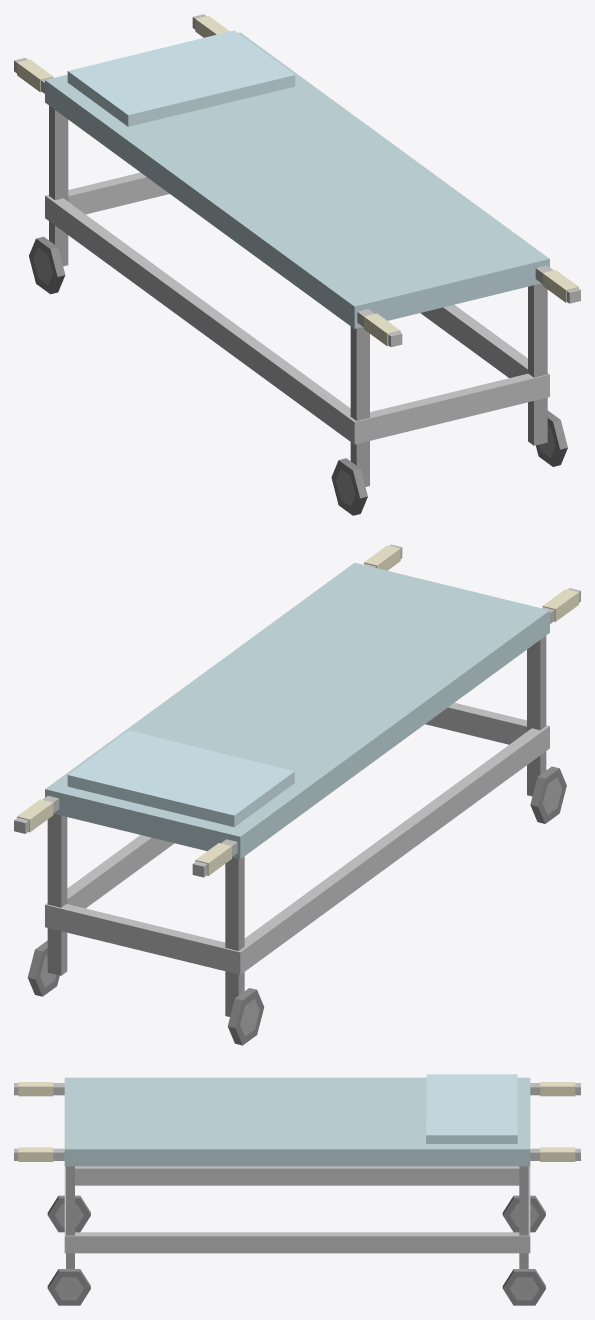
File: medical trolley.fbx
The picture shows the model from 3 angles, top to bottom: view 1: azimuth 30°, elevation 25°; view 2: azimuth 150°, elevation 25°; view 3: azimuth 270°, elevation 25°; orthographic projection. The views are drawn at different scales.
Parts seen in each view (by area): view 1: Cube_11; view 2: Cube_11; view 3: Cube_11.
Part boxes in pixels (bbox=[...]): Cube_11: bbox=[14, 14, 580, 515]; Cube_11: bbox=[14, 544, 580, 1045]; Cube_11: bbox=[14, 1074, 580, 1305].
Bounding box in the file's own units: 34.31 × 34.15 × 108.
